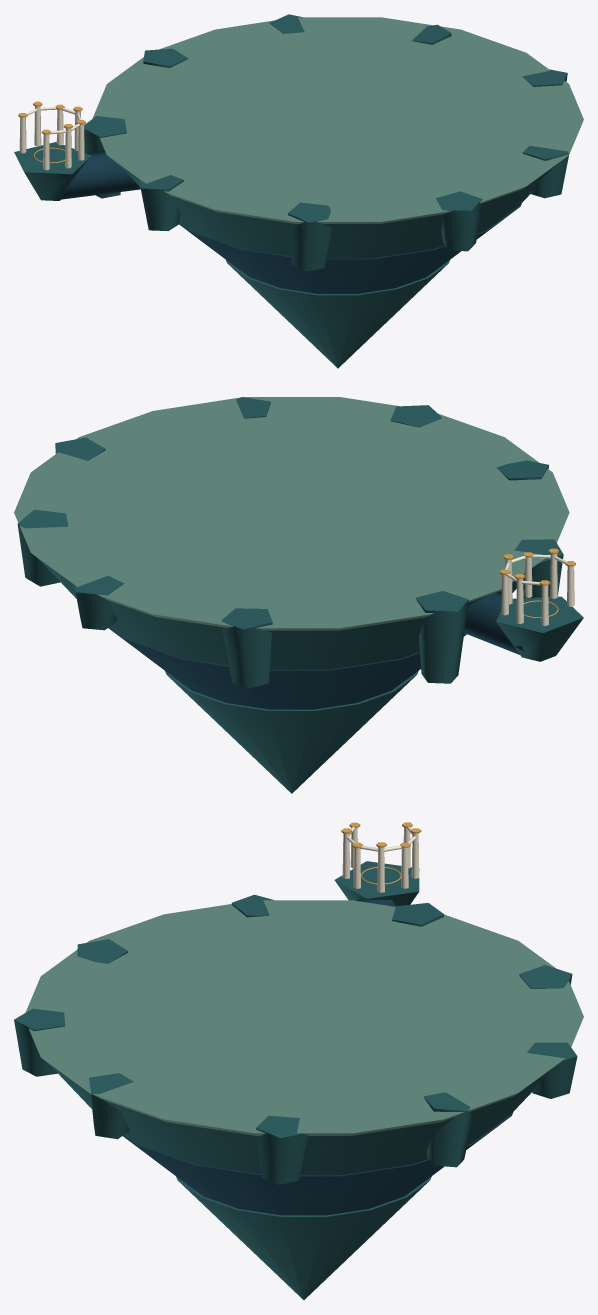
File: island-5-low.glb
The picture shows the model from 3 angles, top to bottom: view 1: azimuth 30°, elevation 25°; view 2: azimuth 150°, elevation 25°; view 3: azimuth 270°, elevation 25°; orthographic projection. The views are drawn at different scales.
Parts seen in each view (by area): view 1: island-4-terrace-merged, teal-basalt-merged, deep-basalt-merged, chalk-sail-merged; view 2: island-4-terrace-merged, teal-basalt-merged, deep-basalt-merged, chalk-sail-merged, aged-brass-merged; view 3: island-4-terrace-merged, teal-basalt-merged, deep-basalt-merged, chalk-sail-merged.
Boxes of the visible parts, left/top/right/bottom form: island-4-terrace-merged: left=92, top=17, right=583, bottom=223; teal-basalt-merged: left=14, top=14, right=568, bottom=368; deep-basalt-merged: left=56, top=151, right=521, bottom=293; chalk-sail-merged: left=19, top=106, right=84, bottom=170; island-4-terrace-merged: left=14, top=397, right=569, bottom=630; teal-basalt-merged: left=17, top=397, right=583, bottom=793; deep-basalt-merged: left=108, top=593, right=524, bottom=709; chalk-sail-merged: left=501, top=554, right=574, bottom=626; aged-brass-merged: left=499, top=548, right=575, bottom=618; island-4-terrace-merged: left=25, top=900, right=583, bottom=1135; teal-basalt-merged: left=14, top=861, right=577, bottom=1299; deep-basalt-merged: left=123, top=898, right=513, bottom=1215; chalk-sail-merged: left=342, top=826, right=419, bottom=892.
Size of the model in its own units: 80.75 by 44.3 by 69.19.
